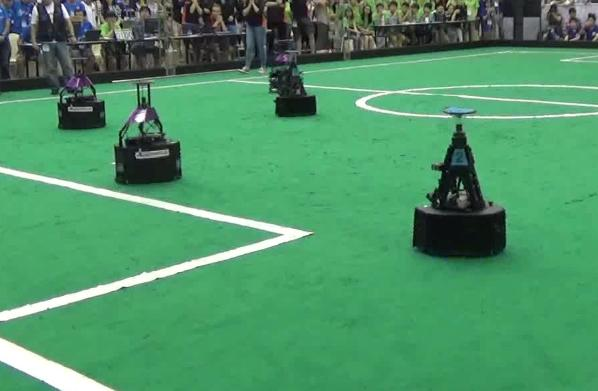robot: (410, 104, 509, 261), (109, 78, 185, 186), (52, 56, 110, 129), (268, 42, 319, 116)
